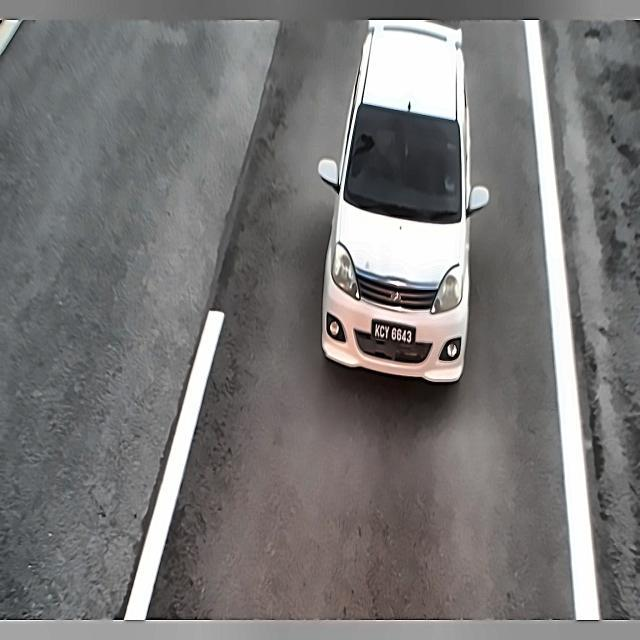car: (368, 314, 420, 352)
